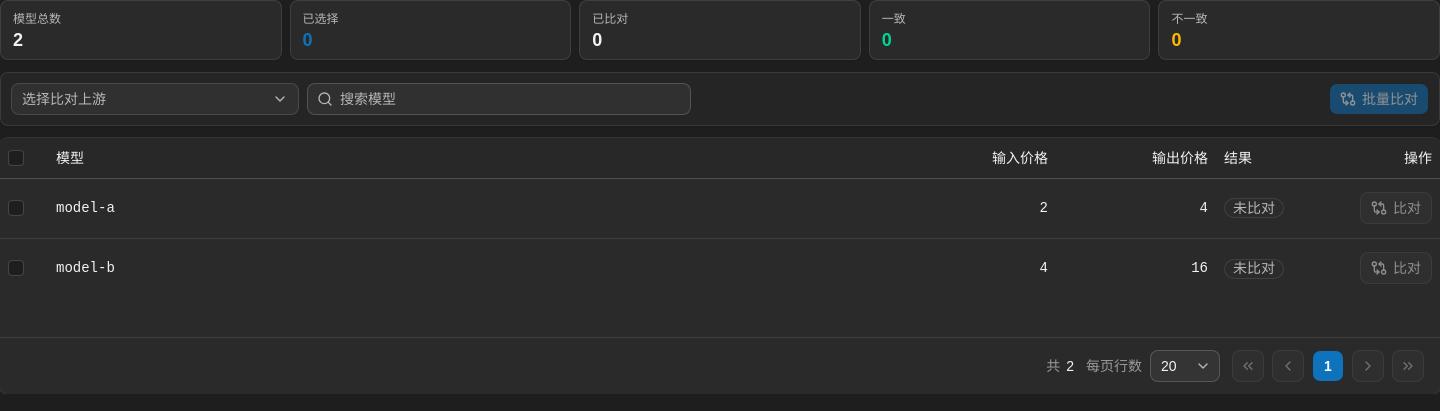
Test case: New API 价格比对 › 选择上游和模型后执行批量比对并显示逐项结果
The width and height of the screenshot is (1440, 411).
Expected: the button "批量比对" is disabled, [1329,83,1429,115]
Click the dropdown labelled "比对上游". click: (64, 99)
box: [11,83,299,115]
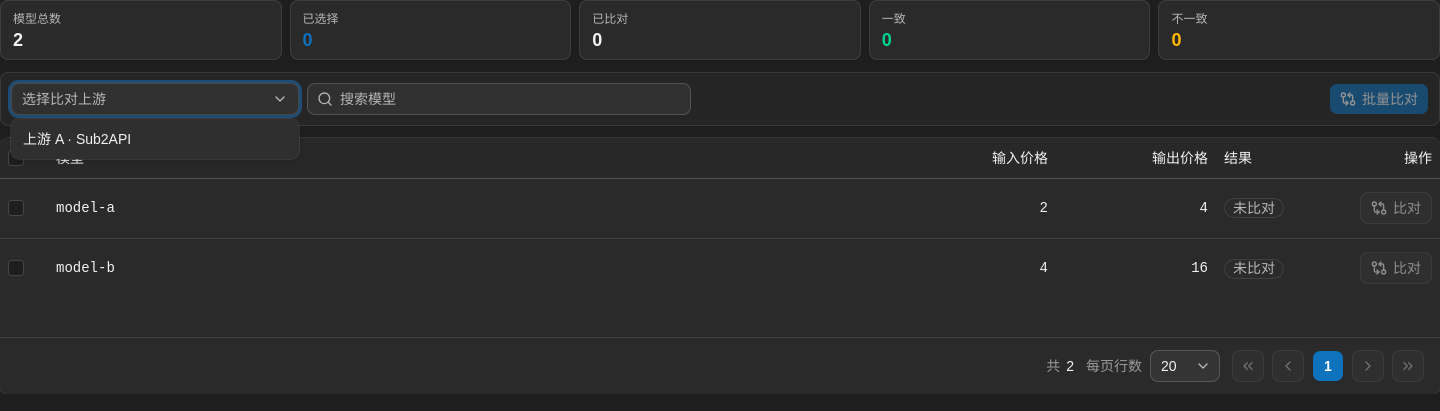
Click the option "上游 A · Sub2API". click: (77, 139)
box: [15,123,295,155]
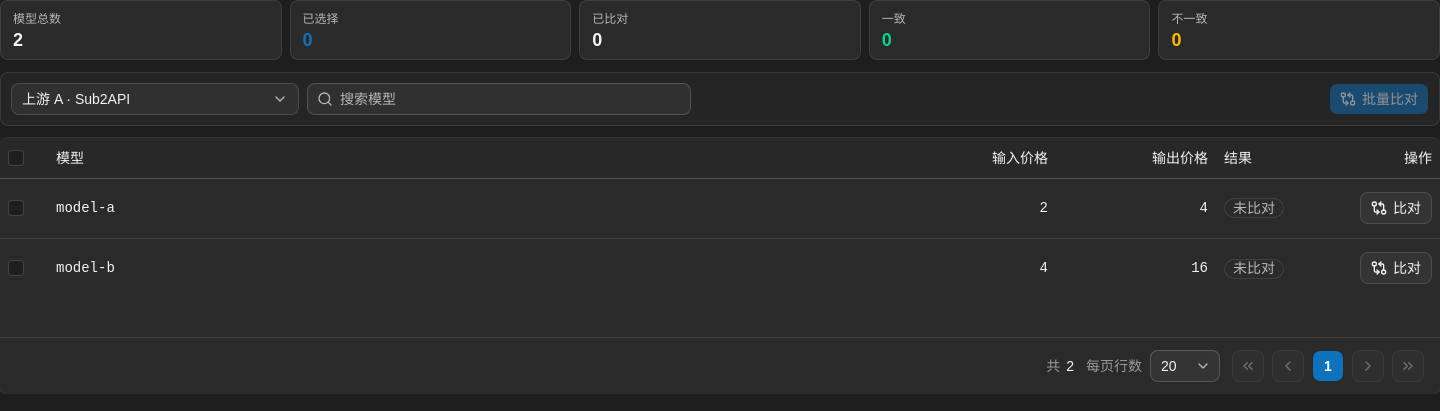
Click the checkbox named "选择 model-a". click: (16, 208)
box: [8,200,24,216]
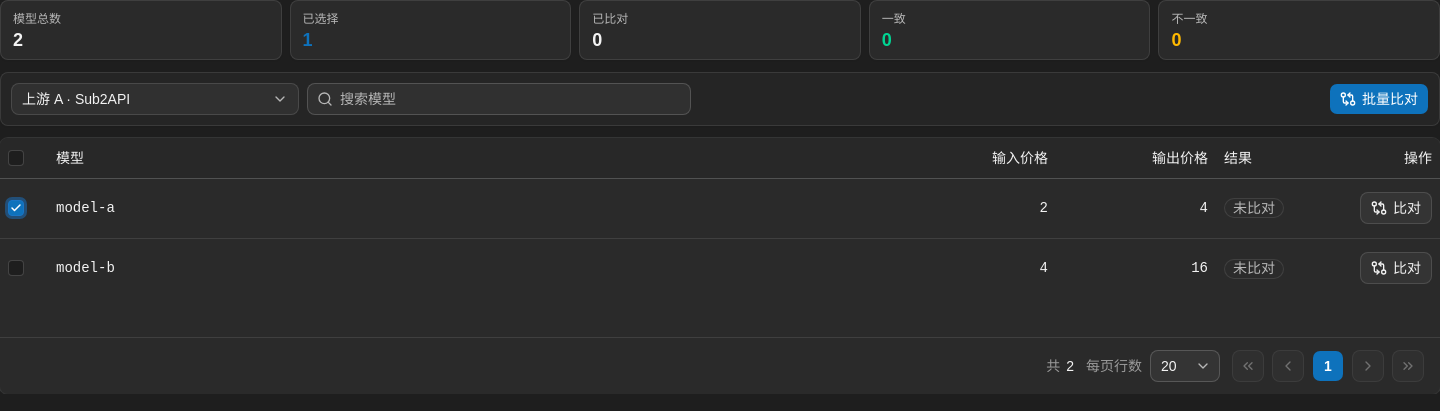
Click the checkbox named "选择 model-b". click: (16, 268)
box: [8,260,24,276]
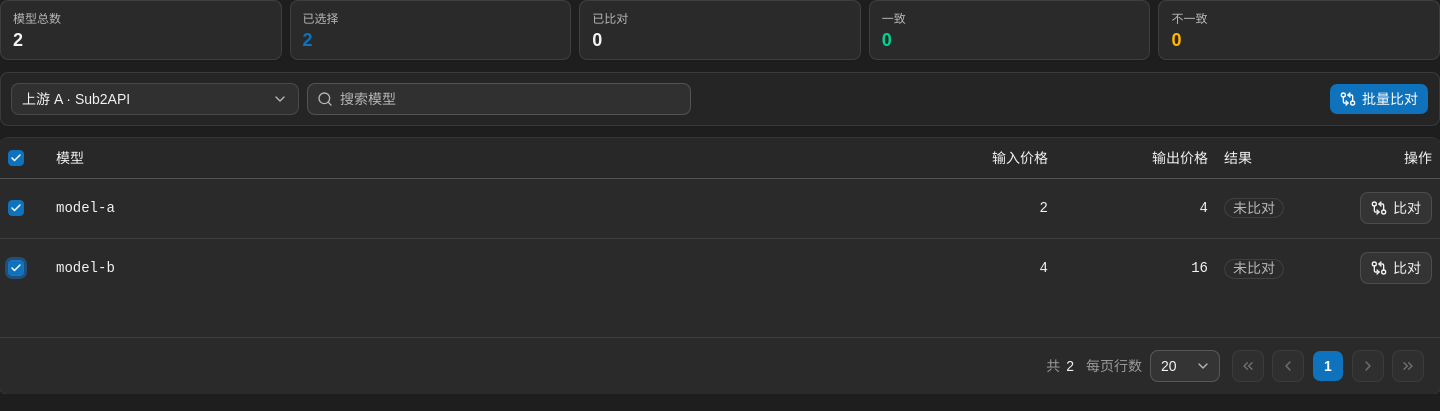
Click the button "批量比对". click: (1379, 99)
box: [1329,83,1429,115]
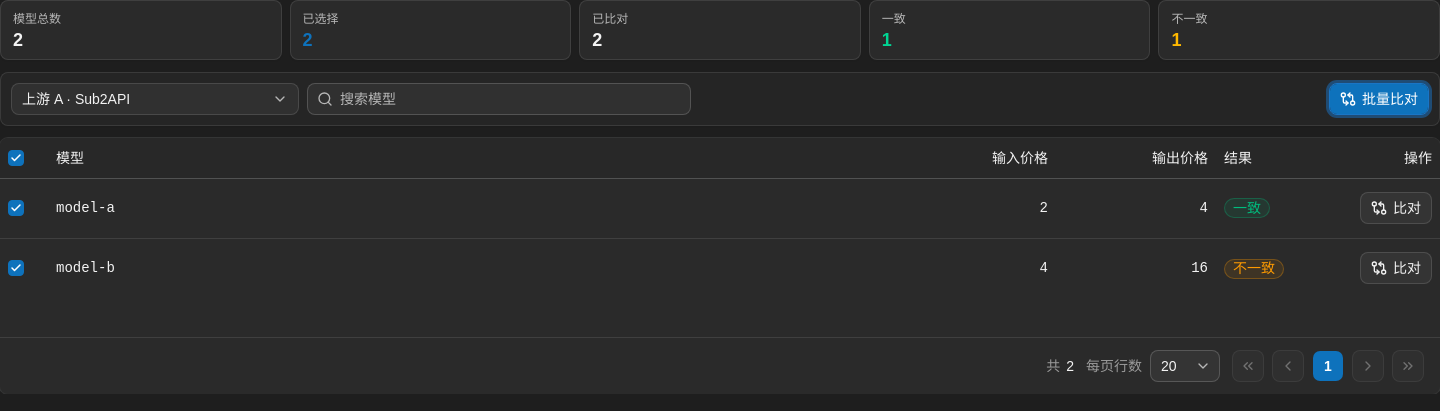
Expected: the element named "model-a 比对结果" reads "一致", [1233,200,1261,216]
Expected: the element named "model-b 比对结果" reads "不一致", [1233,260,1275,276]
